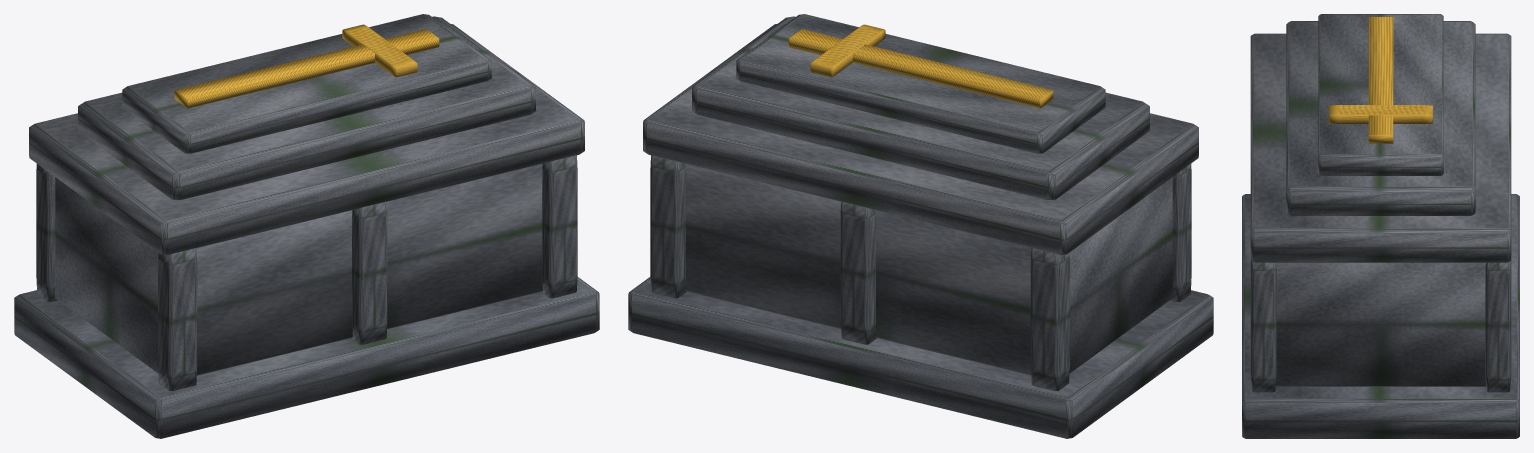
The model's file is sarcophagus.glb.
The picture shows the model from 3 angles, left to right: view 1: azimuth 30°, elevation 25°; view 2: azimuth 150°, elevation 25°; view 3: azimuth 270°, elevation 25°; orthographic projection. The views are drawn at different scales.
Parts seen in each view (by area): view 1: TresendarSarcophagus; view 2: TresendarSarcophagus; view 3: TresendarSarcophagus.
Part boxes in pixels (x1,y1,x2,y2): TresendarSarcophagus: (14,14,599,438); TresendarSarcophagus: (628,14,1213,438); TresendarSarcophagus: (1242,14,1519,438).
Bounding box in the file's own units: 45.53 × 26.53 × 25.58.
2 materials, 2 textured.
